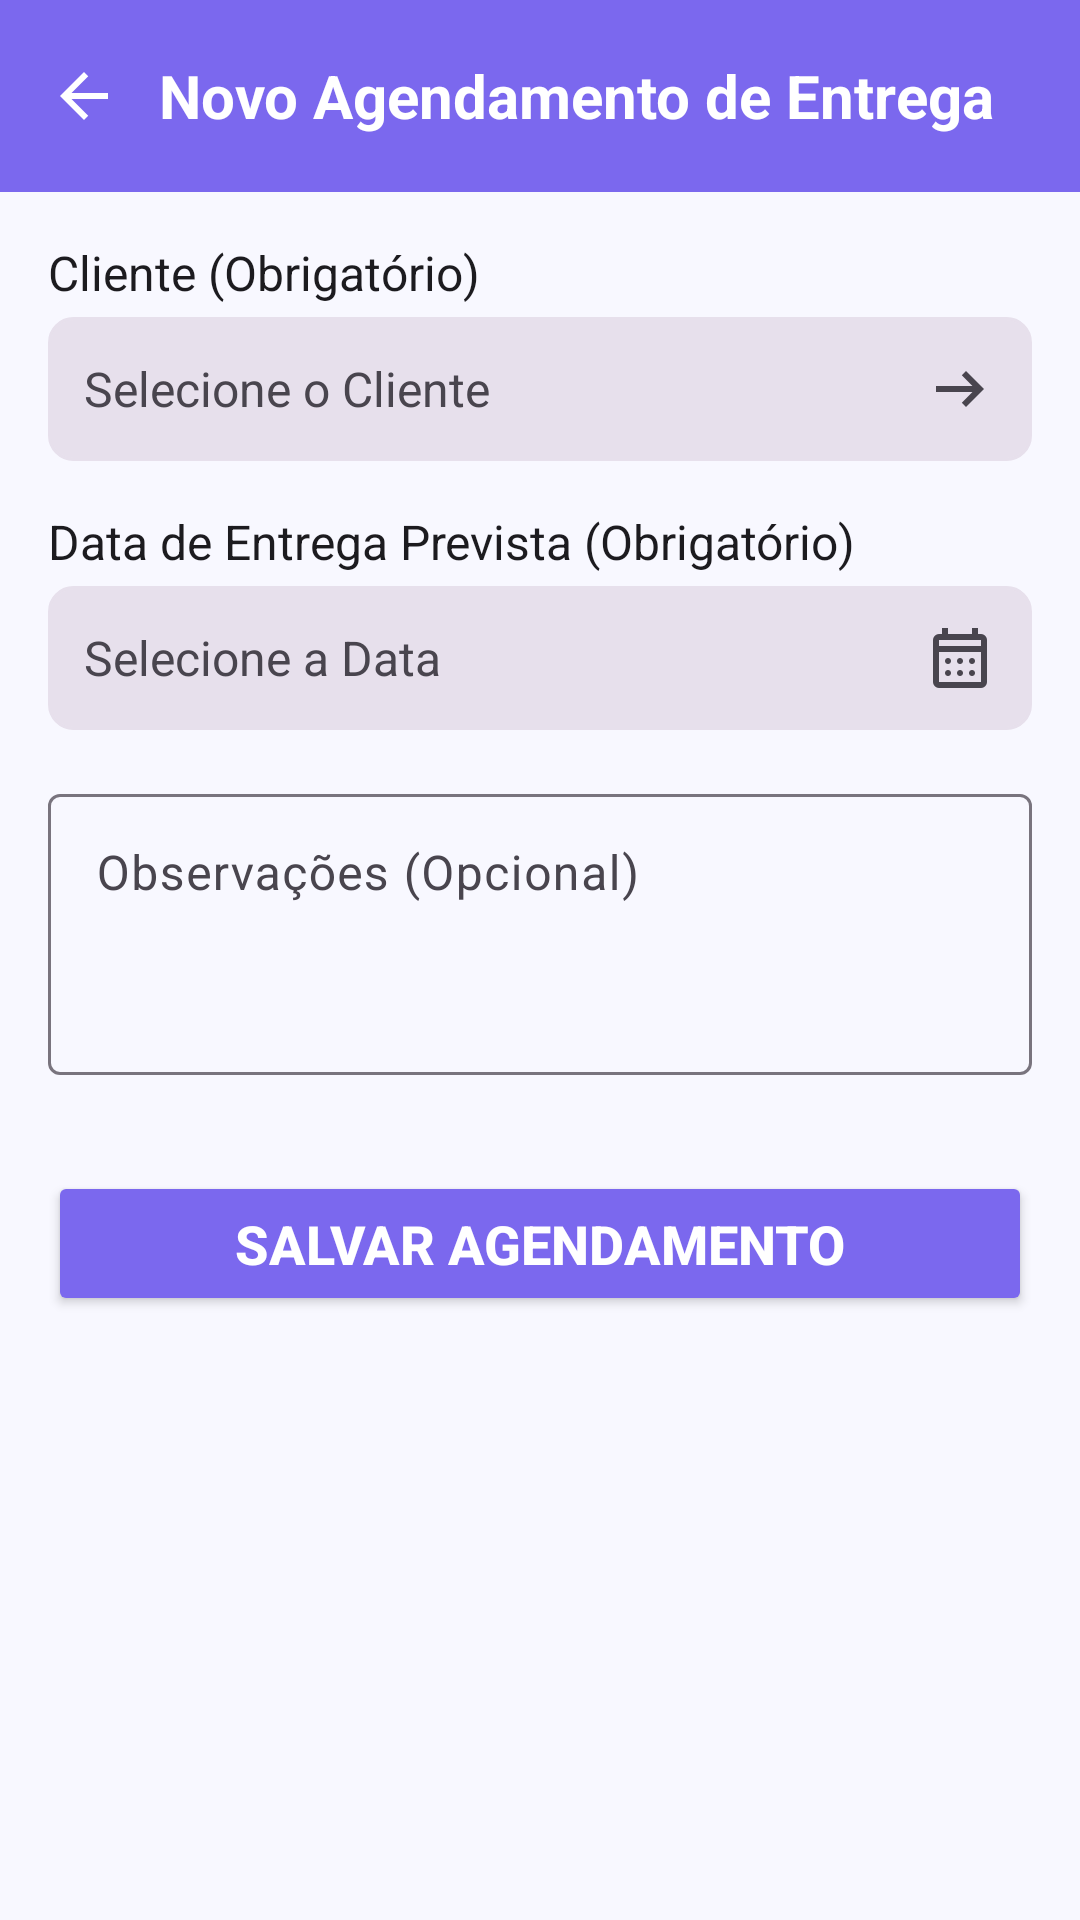

Screen size 1080×1920. Icon name, then its center in pixels as point (x, y):
Selecionar Cliente: point (960, 389)
Selecionar Data: point (960, 658)
Voltar: point (84, 96)
